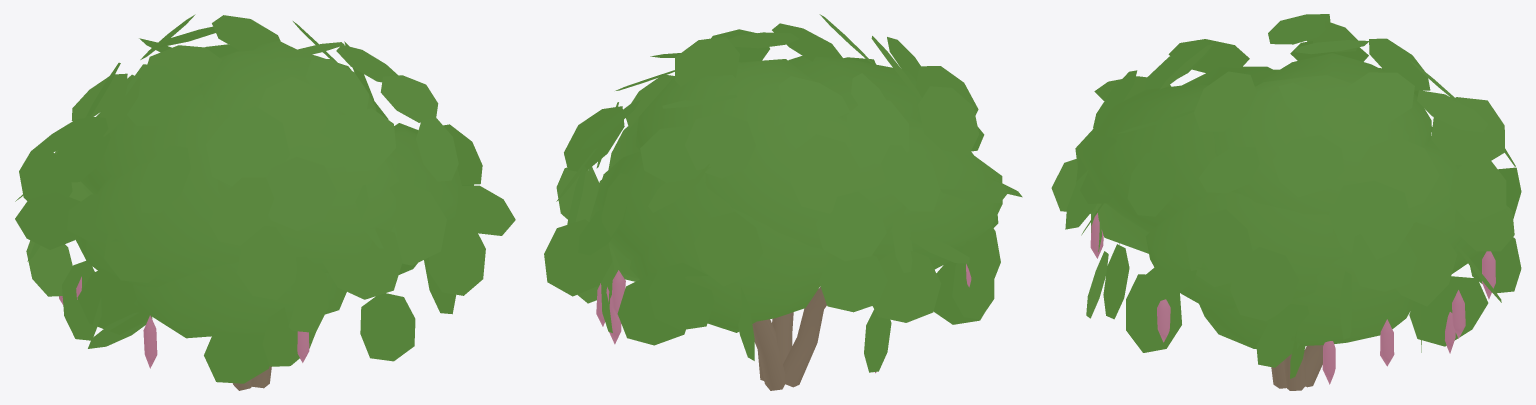
The model's file is Blender_SeaGrape_1.glb.
The picture shows the model from 3 angles, left to right: view 1: azimuth 30°, elevation 25°; view 2: azimuth 150°, elevation 25°; view 3: azimuth 270°, elevation 25°; orthographic projection.
Visible parts, largest first — view 1: Blender_SeaGrape_1; view 2: Blender_SeaGrape_1; view 3: Blender_SeaGrape_1.
Boxes of the visible parts, x1=… form: Blender_SeaGrape_1: x1=15, y1=14, x2=515, y2=390; Blender_SeaGrape_1: x1=544, y1=14, x2=1022, y2=390; Blender_SeaGrape_1: x1=1051, y1=14, x2=1521, y2=390.
Size of the model in its own units: 5.68 by 4.42 by 5.54.
